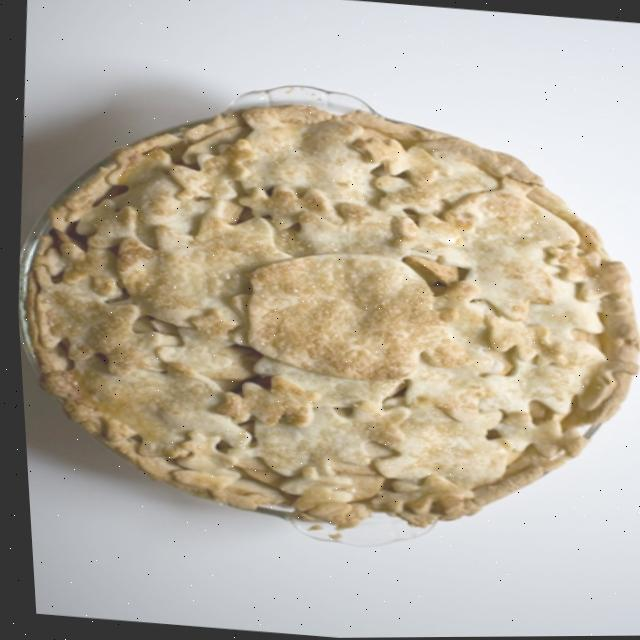炸货点心: (2, 48, 640, 570)
蛋糕甜品: (2, 48, 640, 570)
